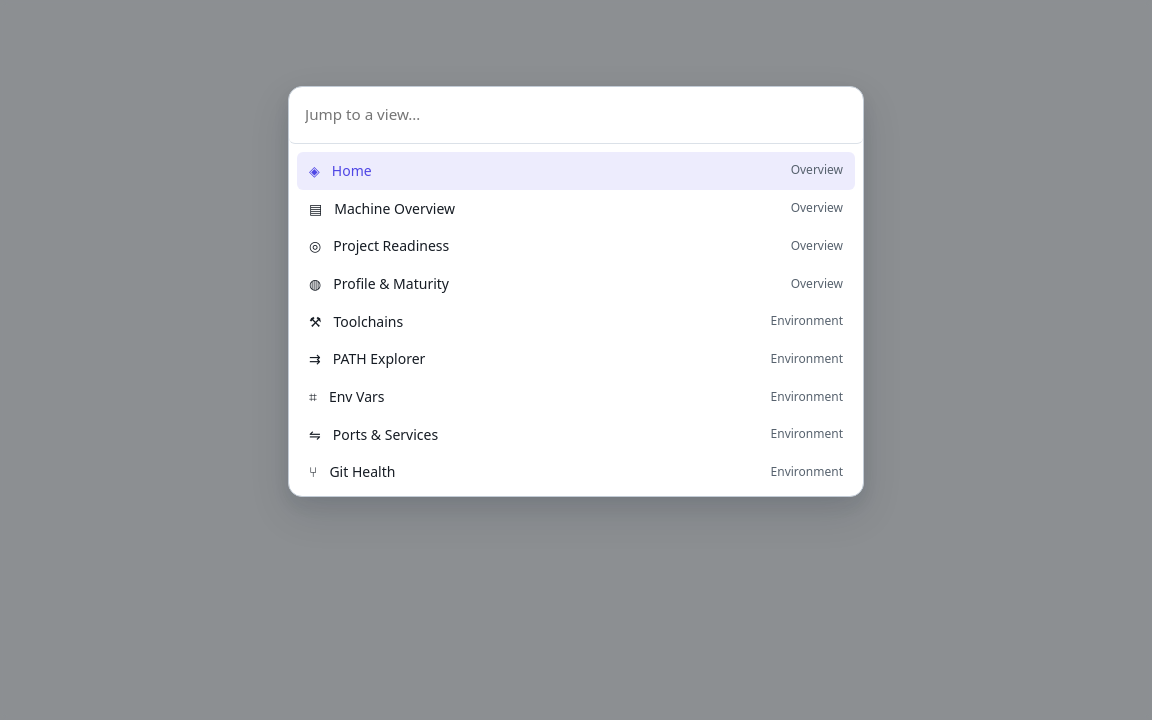
CommandPalette › filters as the user types
Step 1. Type "drift" into the dropdown → (576, 116), box [289, 87, 863, 144]
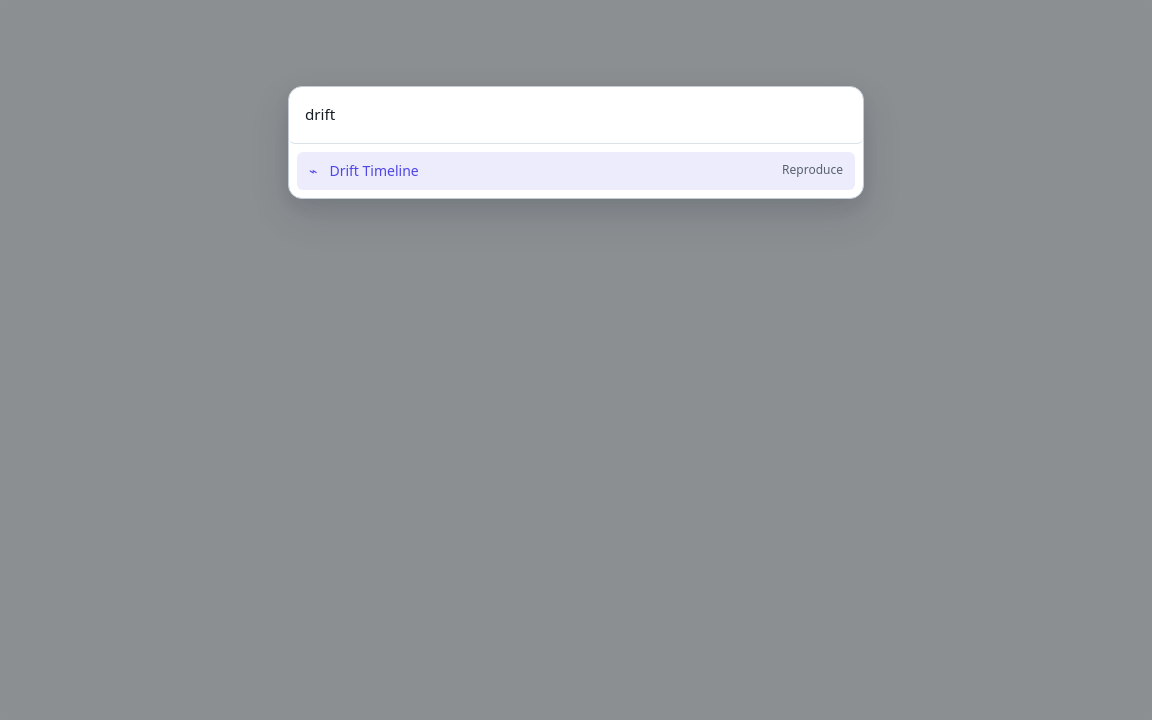
expect the number of options is 1: met, box [297, 152, 855, 190]
expect the option shows "Drift Timeline": met, box [297, 152, 855, 190]
